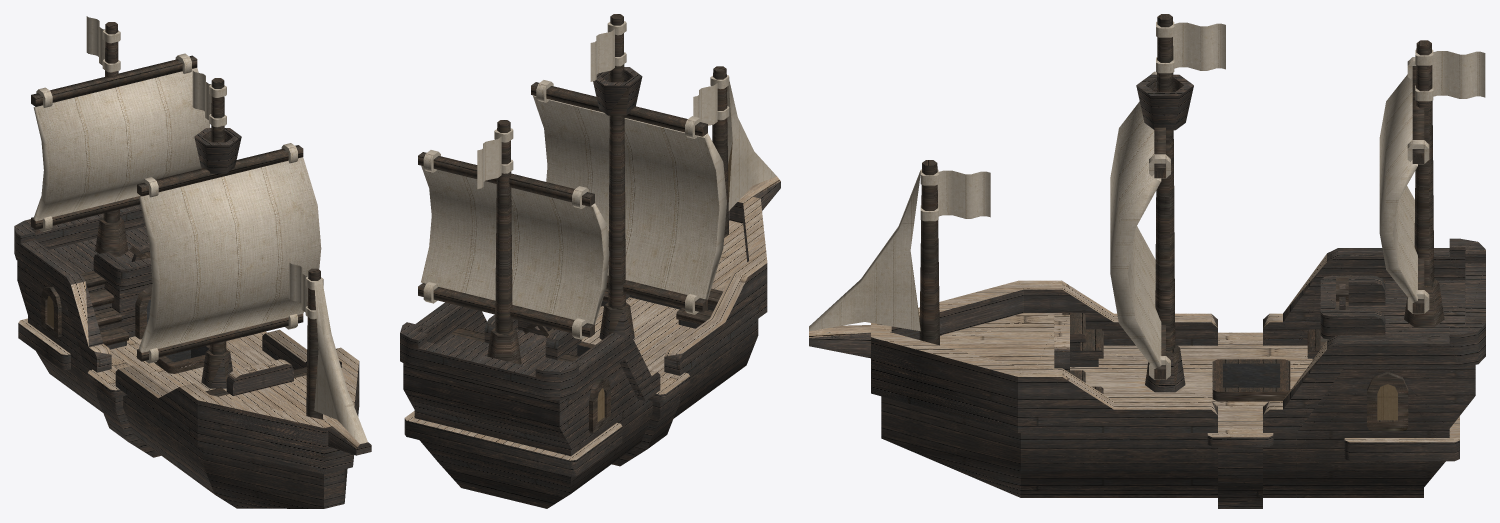
The model's file is caravel-pbr.glb.
3 renders of one model, left to right at view 1: azimuth 30°, elevation 25°; view 2: azimuth 150°, elevation 25°; view 3: azimuth 270°, elevation 25°, orthographic. The views are drawn at different scales.
Visible parts, largest first — view 1: ship-large, sail-a, sail-b, flag-b, flag-c, flag-a; view 2: ship-large, sail-a, sail-b, flag-b, flag-c, flag-a; view 3: ship-large, sail-a, sail-b, flag-c, flag-a, flag-b.
Part boxes in pixels (<box>): ship-large: <box>14,22,371,508</box>; sail-a: <box>137,143,321,363</box>; sail-b: <box>31,53,210,231</box>; flag-b: <box>192,70,226,127</box>; flag-c: <box>86,16,120,72</box>; flag-a: <box>289,262,323,319</box>; ship-large: <box>400,14,780,508</box>; sail-a: <box>531,80,726,314</box>; sail-b: <box>418,150,609,339</box>; flag-b: <box>590,21,626,81</box>; flag-c: <box>477,128,513,189</box>; flag-a: <box>693,75,729,125</box>; ship-large: <box>809,14,1485,508</box>; sail-a: <box>1110,71,1170,379</box>; sail-b: <box>1379,57,1429,313</box>; flag-c: <box>1415,49,1485,101</box>; flag-a: <box>920,169,990,221</box>; flag-b: <box>1156,21,1225,73</box>.
Bounding box in the file's own units: 4.8 × 9.96 × 13.1.
6 materials, 6 textured.
